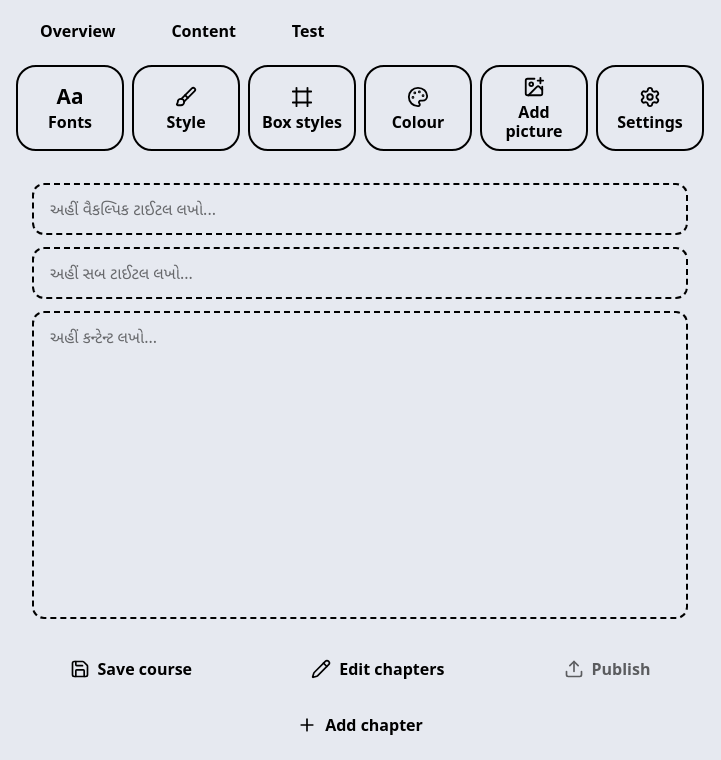
Scenario: CourseWorkspace: course details in the Settings panel › a wrong order is not saved and the friendly list says so
Click the button "Settings".
click(650, 108)  # box [596,65,704,151]
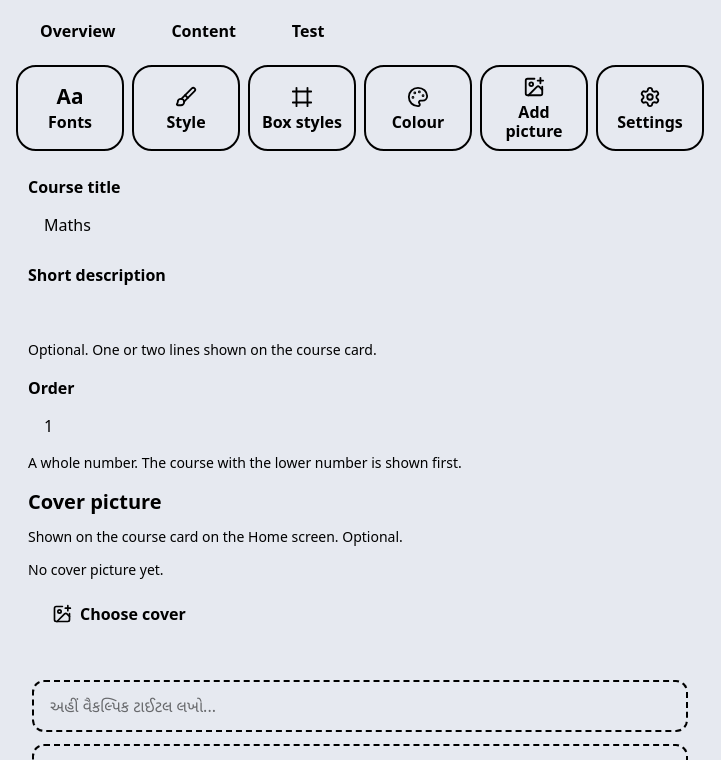
Replace the text in the field labelled "Order" with "abc" at (360, 426), box [28,404,692,448]
(page scrolled)
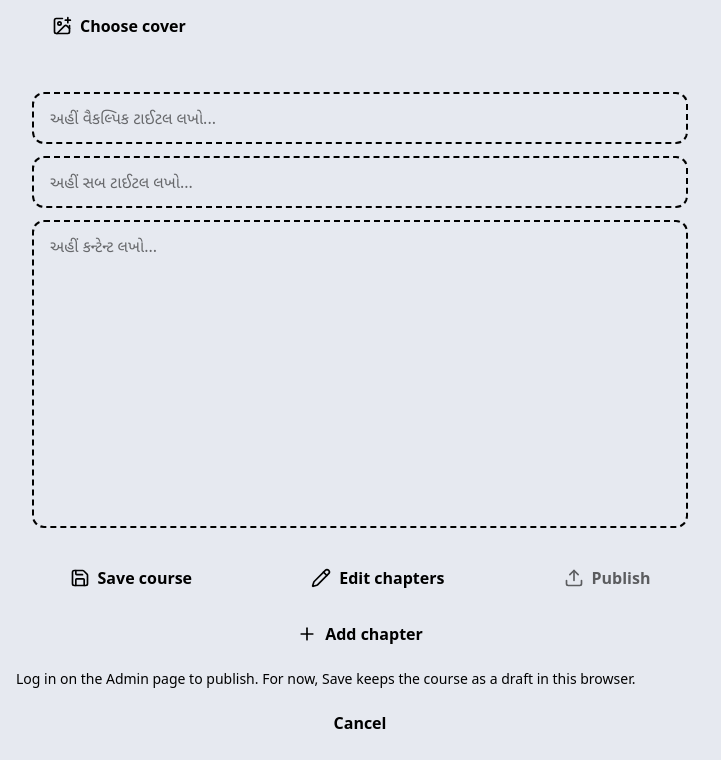
Click the button "Save course".
click(131, 578)  # box [16,556,246,600]
(page scrolled)
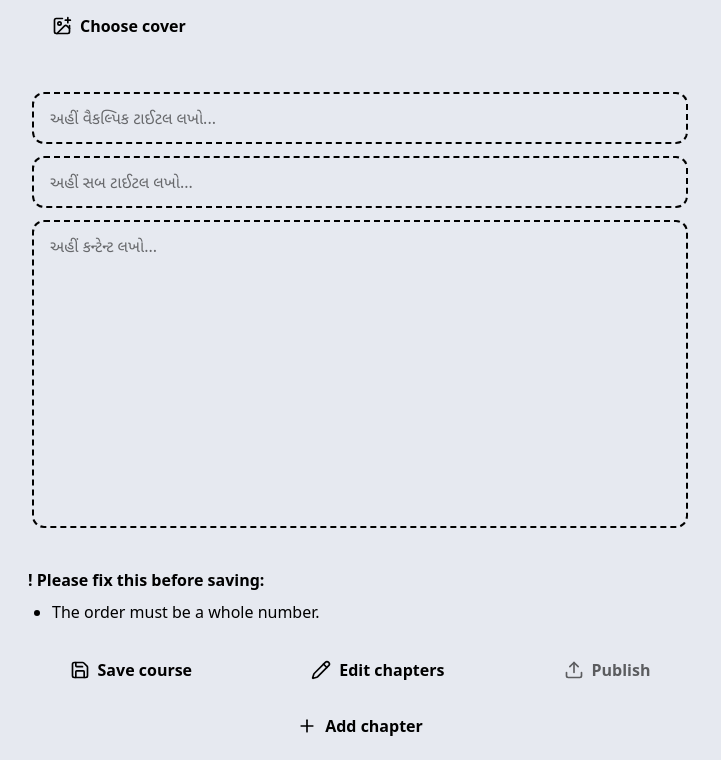
Now the list item "The order must be a whole number." is shown, box [52,601,320,623]
